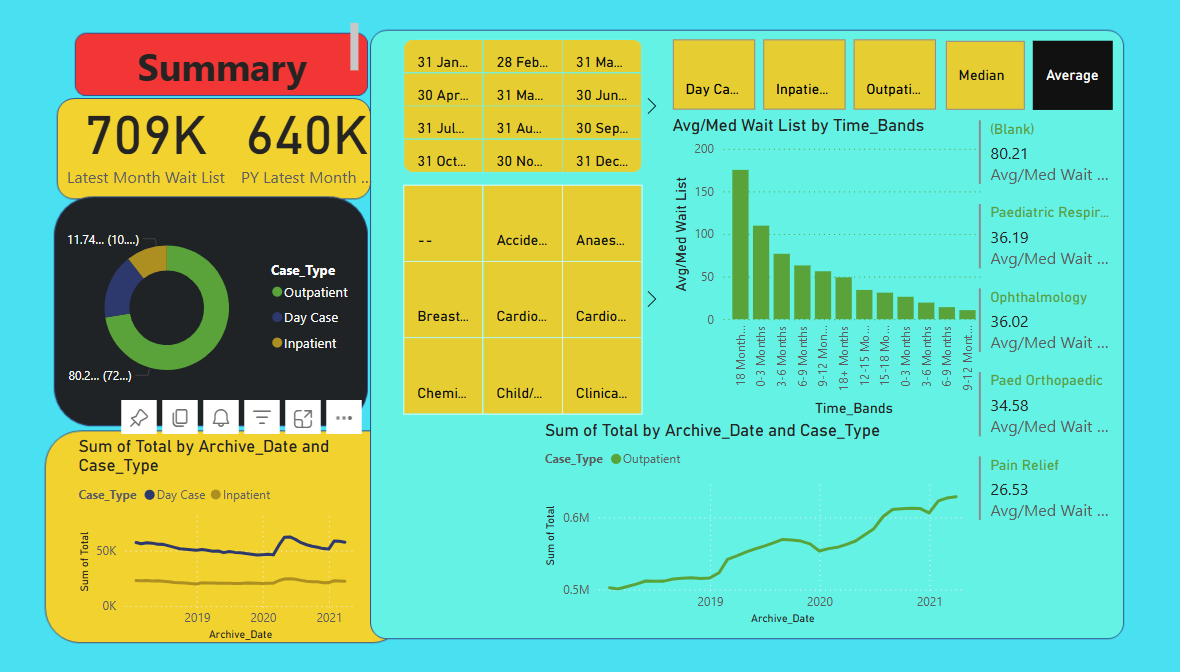

This screenshot's page, from the dashboard's own definition file:
{"tool":"powerbi","page":{"name":"Summary","canvas":[1280,720],"ordinal":0},"visuals":[{"type":"card","fields":{"Values":["All_Data.Latest Month Wait List"]},"box":[0,80,208,112],"z":0},{"type":"card","fields":{"Values":["All_Data.PY Latest Month Wait List"]},"box":[192,72,192,120],"z":1000},{"type":"advancedSlicerVisual","fields":{"Values":["Calculation Method.Calc Method"]},"box":[840,72,432,96],"z":2000},{"type":"donutChart","fields":{"Category":["All_Data.Case_Type"],"Y":["All_Data.Avg/Med Wait List"]},"box":[0,216,384,264],"z":3000},{"type":"columnChart","fields":{"Y":["All_Data.Avg/Med Wait List"],"Category":["All_Data.Time_Bands"]},"box":[744,168,312,312],"z":4000},{"type":"multiRowCard","fields":{"Values":["All_Data.Avg/Med Wait List","All_Data.Specialty_Name"]},"box":[1080,192,192,528],"z":5000},{"type":"lineChart","fields":{"Y":["Sum(All_Data.Total)"],"Category":["All_Data.Archive_Date"],"Series":["All_Data.Case_Type"]},"box":[0,480,432,240],"z":6000},{"type":"lineChart","fields":{"Y":["Sum(All_Data.Total)"],"Category":["All_Data.Archive_Date"],"Series":["All_Data.Case_Type"]},"box":[432,480,408,240],"z":7000},{"type":"advancedSlicerVisual","fields":{"Values":["All_Data.Archive_Date"]},"box":[384,0,320,160],"z":8000},{"type":"advancedSlicerVisual","fields":{"Values":["All_Data.Case_Type"]},"box":[704,16,272,80],"z":9000},{"type":"advancedSlicerVisual","fields":{"Values":["All_Data.Speciality"]},"box":[384,168,288,240],"z":10000},{"type":"textbox","box":[24,0,312,96],"z":12000}]}

Visuals, with their boxes in screenshot pixels (x1, y1, x2, y2), scaled from the page's 1280x720 canvas onto the 1180x672 screenshot:
card - All_Data.Latest Month Wait List: (x1=0, y1=75, x2=192, y2=179)
card - All_Data.PY Latest Month Wait List: (x1=177, y1=67, x2=354, y2=179)
advancedSlicerVisual - Calculation Method.Calc Method: (x1=774, y1=67, x2=1173, y2=157)
donutChart - All_Data.Case_Type x All_Data.Avg/Med Wait List: (x1=0, y1=202, x2=354, y2=448)
columnChart - All_Data.Avg/Med Wait List x All_Data.Time_Bands: (x1=686, y1=157, x2=974, y2=448)
multiRowCard - All_Data.Avg/Med Wait List x All_Data.Specialty_Name: (x1=996, y1=179, x2=1173, y2=671)
lineChart - Sum(All_Data.Total) x All_Data.Archive_Date: (x1=0, y1=448, x2=398, y2=671)
lineChart - Sum(All_Data.Total) x All_Data.Archive_Date: (x1=398, y1=448, x2=774, y2=671)
advancedSlicerVisual - All_Data.Archive_Date: (x1=354, y1=0, x2=649, y2=149)
advancedSlicerVisual - All_Data.Case_Type: (x1=649, y1=15, x2=900, y2=90)
advancedSlicerVisual - All_Data.Speciality: (x1=354, y1=157, x2=620, y2=381)
textbox: (x1=22, y1=0, x2=310, y2=90)
